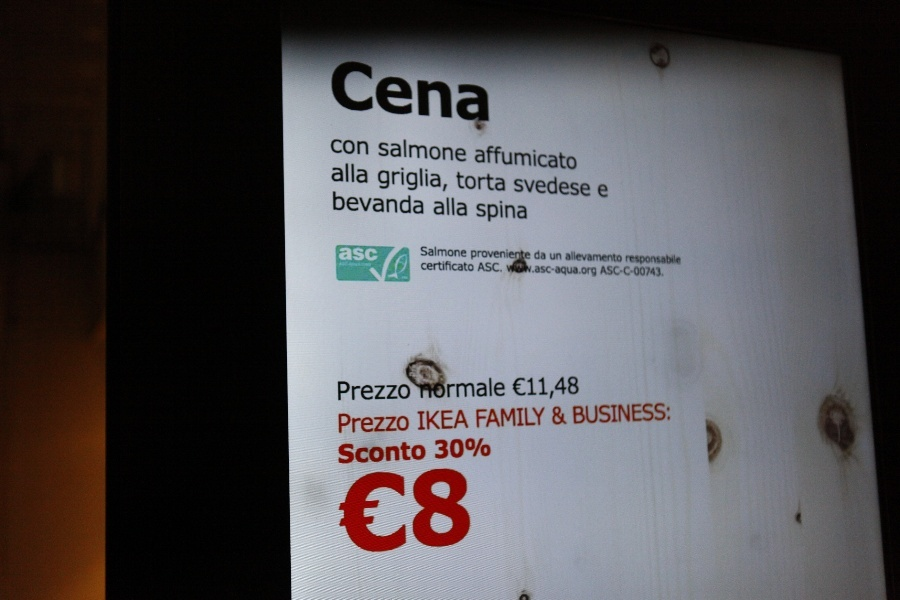text: (337, 464, 352, 562), (353, 464, 368, 562), (369, 464, 384, 562), (385, 464, 400, 562), (401, 464, 416, 562), (417, 464, 432, 562), (433, 464, 448, 562), (449, 464, 464, 562), (337, 57, 352, 127), (353, 57, 368, 127), (369, 57, 384, 127), (385, 57, 400, 127), (401, 57, 416, 127), (417, 57, 432, 127), (433, 57, 448, 127), (449, 57, 464, 127), (465, 57, 480, 127), (481, 57, 493, 127), (465, 464, 473, 562), (513, 373, 528, 405), (529, 373, 544, 405), (545, 373, 560, 405), (561, 373, 576, 405), (657, 401, 673, 430), (577, 401, 592, 430), (593, 401, 608, 430), (609, 401, 624, 430), (625, 401, 640, 430), (641, 401, 656, 430), (337, 439, 352, 467), (353, 439, 368, 467), (369, 439, 384, 467), (385, 439, 400, 467), (401, 439, 416, 467), (481, 144, 496, 172), (497, 144, 512, 172), (513, 144, 528, 172), (529, 144, 544, 172), (545, 144, 560, 172), (561, 144, 576, 172), (385, 137, 400, 165), (401, 137, 416, 165), (417, 137, 432, 165), (433, 137, 448, 165), (449, 137, 464, 165), (433, 167, 449, 193), (513, 201, 529, 226), (481, 406, 496, 432), (497, 406, 512, 432), (513, 406, 528, 432), (529, 406, 544, 432), (417, 376, 432, 402), (433, 376, 448, 402), (449, 376, 464, 402), (465, 376, 480, 402), (481, 376, 496, 402), (385, 167, 400, 193), (401, 167, 416, 193), (417, 167, 432, 193), (337, 190, 352, 216), (353, 190, 368, 216), (369, 190, 384, 216), (385, 190, 400, 216), (401, 190, 416, 216), (449, 436, 464, 461), (465, 436, 480, 461), (417, 409, 432, 434), (433, 409, 448, 434), (449, 409, 464, 434), (481, 201, 496, 226), (497, 201, 512, 226), (337, 413, 352, 437), (353, 413, 368, 437), (369, 413, 384, 437), (385, 413, 400, 437), (513, 175, 528, 199), (529, 175, 544, 199), (545, 175, 560, 199), (561, 175, 576, 199), (353, 163, 369, 185), (434, 436, 448, 461), (577, 175, 591, 199), (337, 381, 352, 403), (353, 381, 368, 403), (369, 381, 384, 403), (385, 381, 400, 403), (433, 196, 448, 218), (449, 196, 464, 218), (337, 163, 352, 185), (465, 172, 480, 193), (481, 172, 496, 193), (417, 439, 428, 467), (337, 139, 352, 158), (353, 139, 368, 158), (332, 57, 336, 127), (481, 436, 492, 461), (401, 381, 413, 403), (497, 376, 507, 402), (353, 247, 368, 264), (550, 405, 560, 429), (338, 247, 352, 264), (376, 137, 384, 165), (401, 413, 410, 437), (609, 265, 624, 279), (625, 265, 640, 279), (641, 265, 656, 279), (513, 264, 528, 278), (529, 264, 544, 278), (545, 264, 560, 278), (561, 264, 576, 278), (577, 264, 592, 278), (433, 259, 448, 273), (449, 259, 464, 273), (577, 250, 592, 264), (593, 250, 608, 264), (417, 190, 425, 216), (369, 247, 381, 264), (334, 464, 336, 562), (609, 250, 623, 264), (481, 261, 496, 274), (625, 254, 640, 267), (641, 254, 656, 267), (657, 254, 672, 267), (561, 405, 569, 429), (455, 172, 464, 193), (497, 172, 506, 193), (473, 406, 480, 432), (377, 167, 384, 193), (481, 249, 496, 261), (497, 249, 512, 261), (513, 249, 528, 261), (433, 246, 448, 258), (449, 246, 464, 258), (597, 183, 608, 199), (474, 144, 480, 172), (421, 259, 432, 273), (565, 250, 576, 264), (474, 201, 480, 226), (571, 401, 576, 430), (420, 246, 432, 258), (465, 259, 475, 273), (465, 137, 470, 165), (533, 249, 544, 261), (577, 373, 581, 405), (465, 409, 470, 434), (549, 251, 560, 262), (673, 254, 682, 267), (330, 139, 336, 158), (657, 265, 665, 279), (331, 163, 336, 185), (471, 249, 480, 261), (332, 190, 336, 216), (601, 265, 608, 279), (505, 264, 512, 278), (545, 406, 548, 432), (497, 261, 503, 274), (593, 264, 598, 278), (465, 196, 468, 218), (510, 373, 512, 405), (577, 144, 579, 172), (369, 139, 371, 158), (529, 249, 532, 261), (465, 246, 468, 258), (545, 249, 547, 261), (561, 251, 563, 262), (479, 261, 480, 274)
